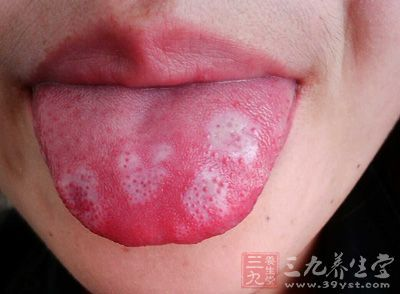hongdianshe: (84, 181, 92, 192), (213, 121, 221, 130), (249, 124, 256, 134), (201, 184, 208, 193), (124, 155, 130, 163), (132, 177, 137, 185)
hongshe: (32, 71, 296, 247)
